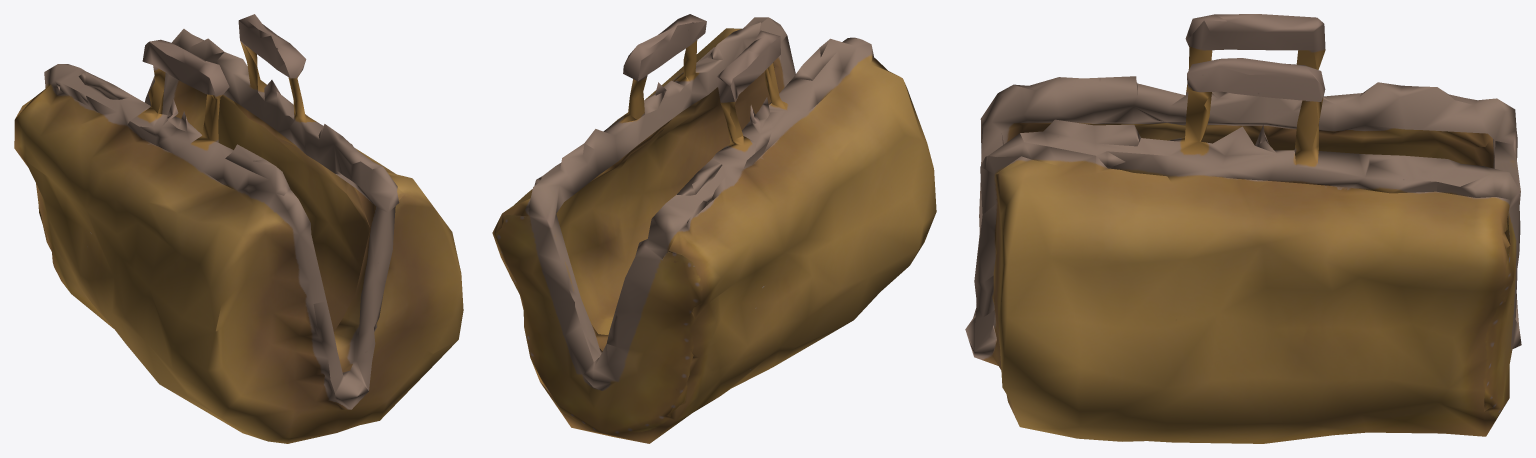
The model's file is Bag_LOD1.fbx.
The picture shows the model from 3 angles, left to right: view 1: azimuth 30°, elevation 25°; view 2: azimuth 150°, elevation 25°; view 3: azimuth 270°, elevation 25°; orthographic projection. The views are drawn at different scales.
Parts seen in each view (by area): view 1: Layer_2; view 2: Layer_2; view 3: Layer_2.
Boxes of the visible parts, left/top/right/bottom form: Layer_2: left=14, top=14, right=463, bottom=443; Layer_2: left=492, top=14, right=936, bottom=443; Layer_2: left=965, top=14, right=1521, bottom=443.
Bounding box in the file's own units: 0.2699 × 0.4137 × 0.3103.
1 material, 1 textured.
